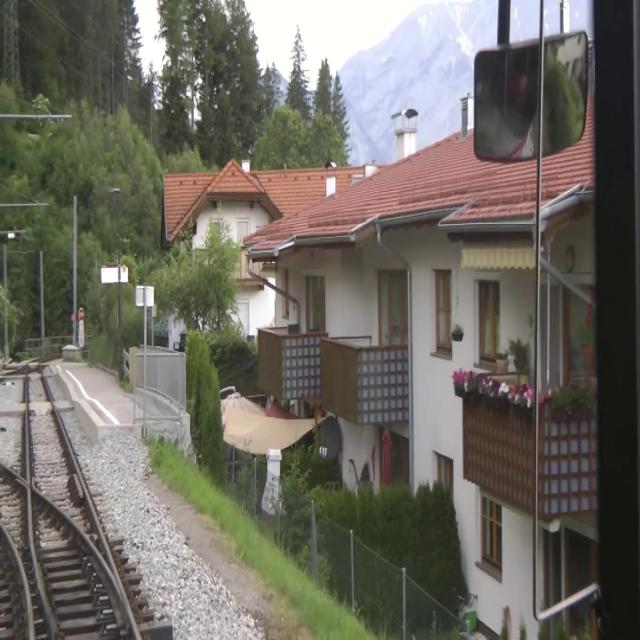rail-track: (28, 361, 106, 558), (32, 496, 132, 639), (0, 472, 52, 639)
